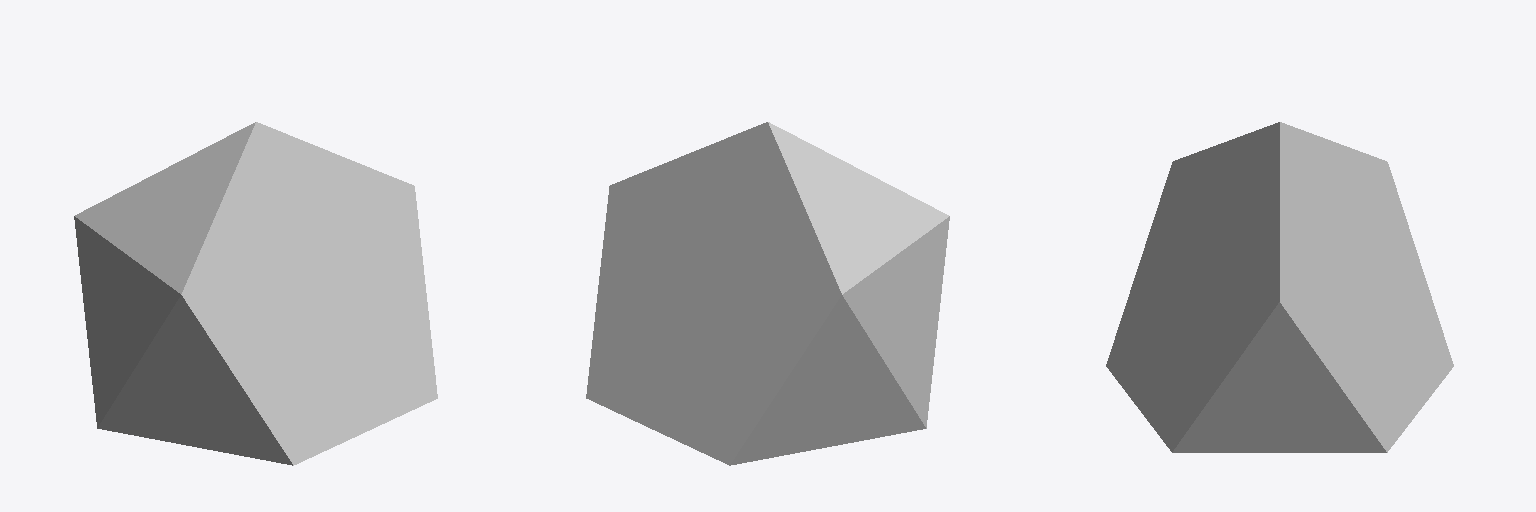
The model's file is TridiminishedIcosahedron.obj.
3 renders of one model, left to right at view 1: azimuth 30°, elevation 25°; view 2: azimuth 150°, elevation 25°; view 3: azimuth 270°, elevation 25°, orthographic.
Visible parts, largest first — view 1: TriDiminishedIcosahedron; view 2: TriDiminishedIcosahedron; view 3: TriDiminishedIcosahedron.
Part boxes in pixels (x1,y1,x2,y2): TriDiminishedIcosahedron: (74, 122, 437, 465); TriDiminishedIcosahedron: (586, 122, 949, 465); TriDiminishedIcosahedron: (1106, 122, 1453, 452).
Bounding box in the file's own units: 1.28 × 1.03 × 1.21.